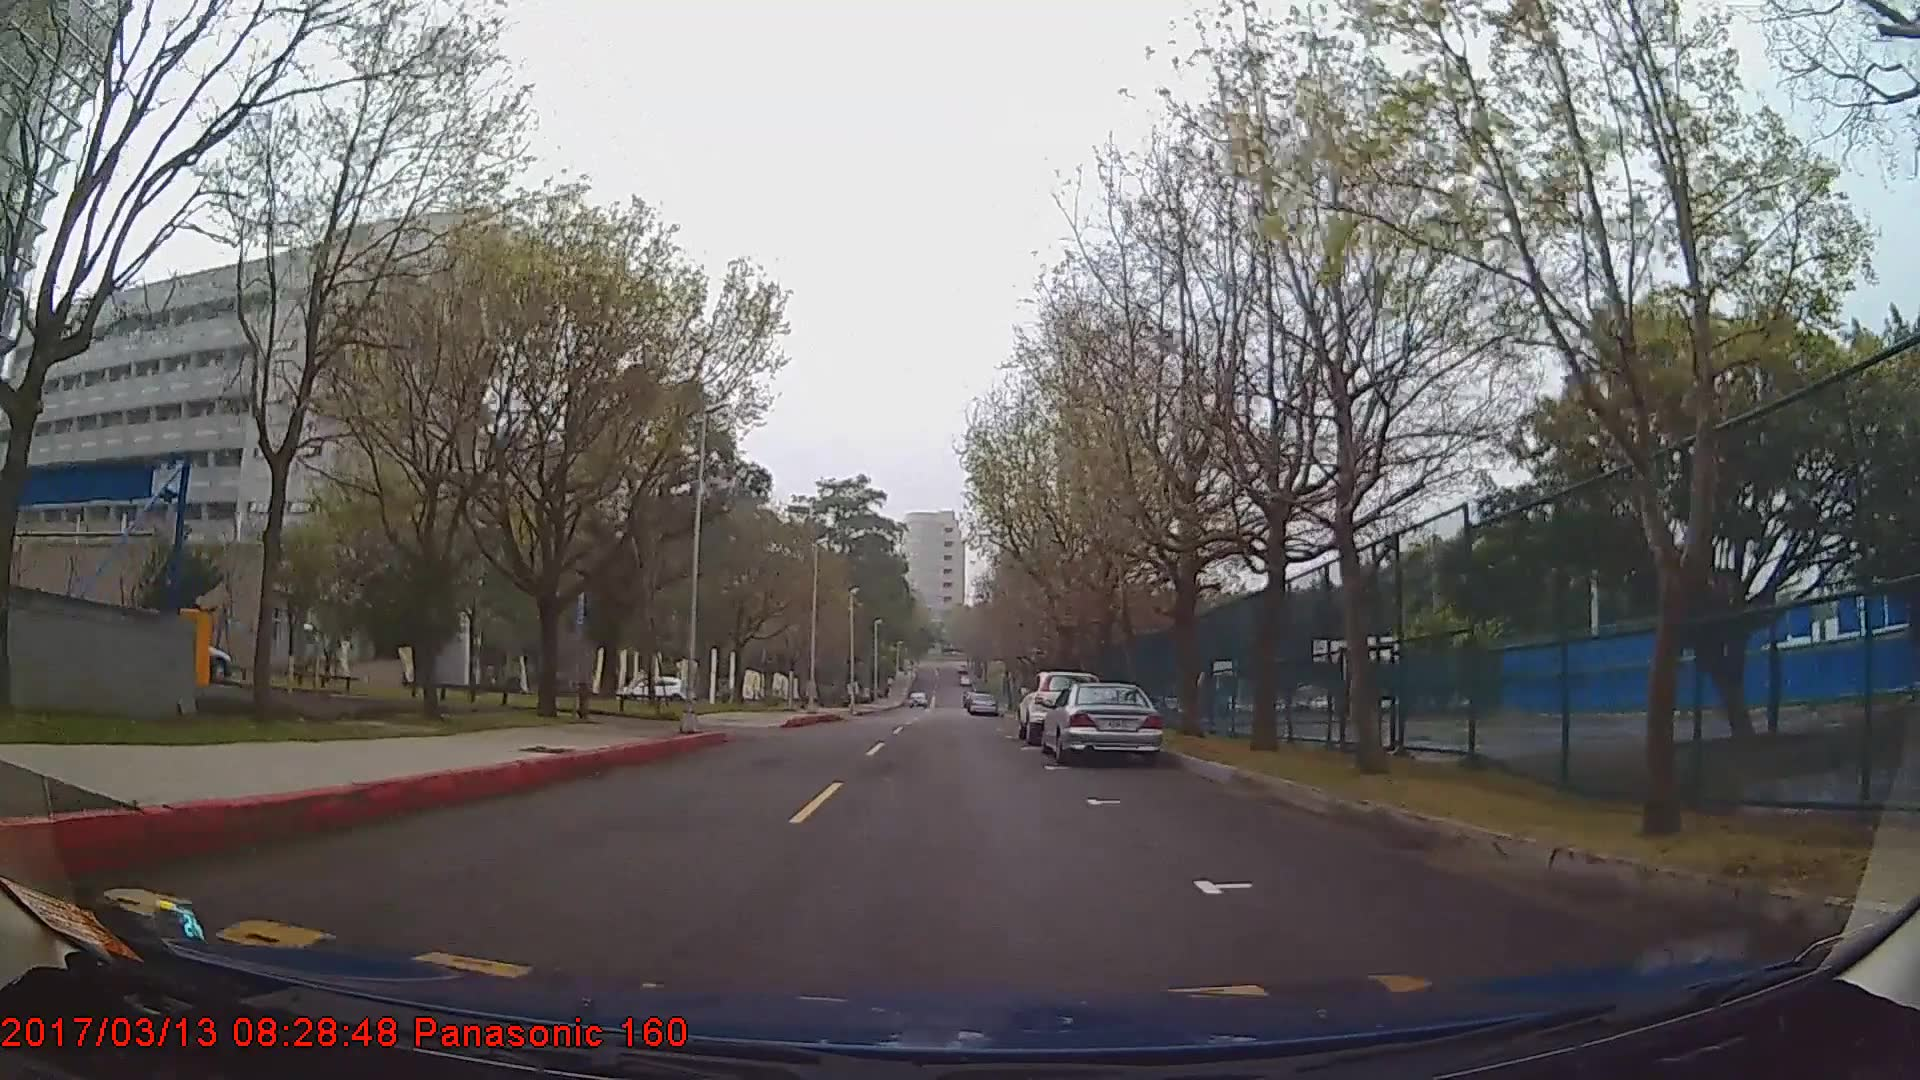vehicle: (1040, 680, 1163, 765), (1019, 669, 1102, 744), (615, 673, 695, 704), (967, 691, 998, 717)
